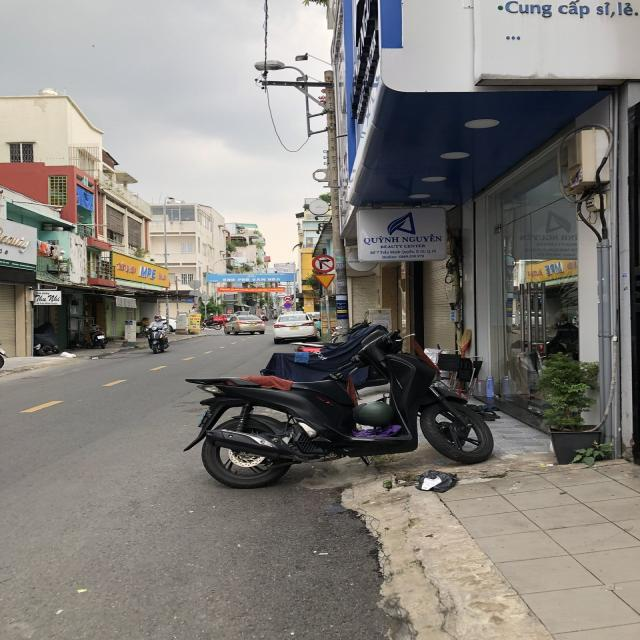Bien bao cam re phai: (310, 252, 338, 273)
Bien bao giao nhau voi duong uu tien: (310, 273, 339, 291)
